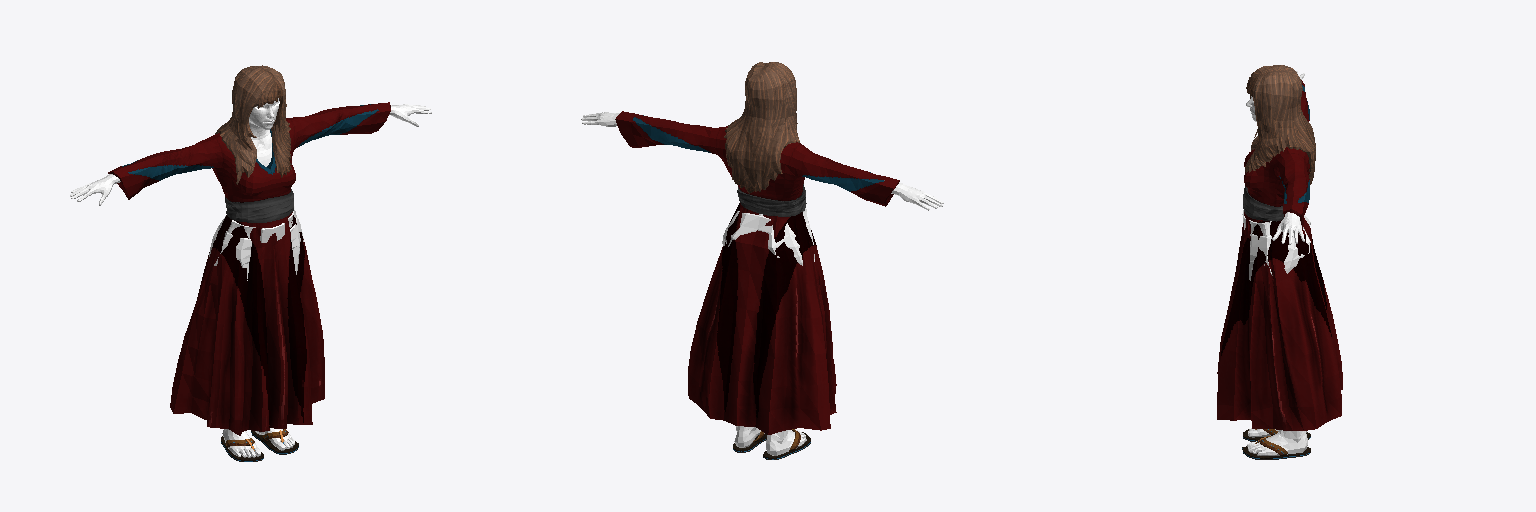
3 views of the same model, side by side, from view 1: azimuth 30°, elevation 25°; view 2: azimuth 150°, elevation 25°; view 3: azimuth 270°, elevation 25° (orthographic).
Parts seen in each view (by area): view 1: Tops, Hair, Body, Bottoms, Shoes; view 2: Tops, Hair, Body, Bottoms, Shoes; view 3: Tops, Hair, Body, Bottoms, Shoes.
Boxes of the visible parts, x1=… form: Tops: x1=108, y1=102, x2=390, y2=435; Hair: x1=215, y1=65, x2=291, y2=184; Body: x1=70, y1=98, x2=431, y2=457; Bottoms: x1=209, y1=206, x2=303, y2=429; Shoes: x1=221, y1=429, x2=298, y2=461; Tops: x1=615, y1=111, x2=899, y2=434; Hair: x1=724, y1=62, x2=799, y2=193; Body: x1=581, y1=112, x2=943, y2=455; Bottoms: x1=722, y1=208, x2=814, y2=438; Shoes: x1=733, y1=429, x2=810, y2=459; Tops: x1=1217, y1=80, x2=1342, y2=430; Hair: x1=1245, y1=65, x2=1315, y2=184; Body: x1=1246, y1=71, x2=1307, y2=455; Bottoms: x1=1242, y1=210, x2=1310, y2=438; Shoes: x1=1242, y1=429, x2=1310, y2=459.
Size of the model in its own units: 170 by 171 by 51.91.
5 materials, 3 textured.